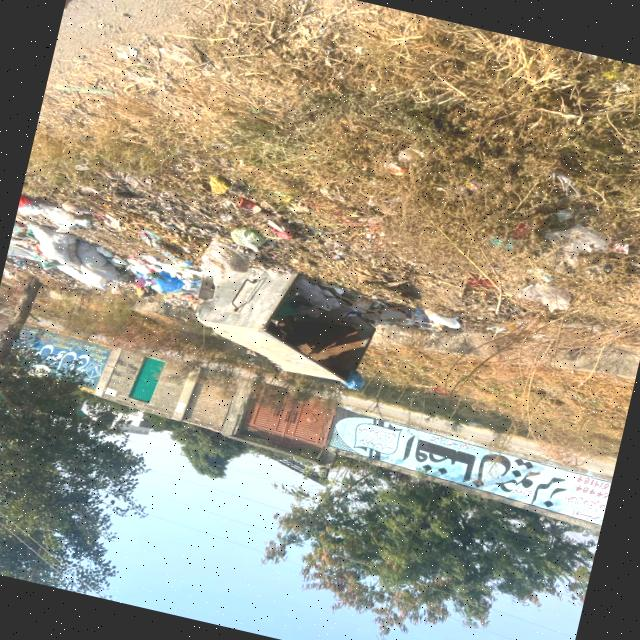garbage: (192, 212, 470, 357), (5, 195, 216, 308)
